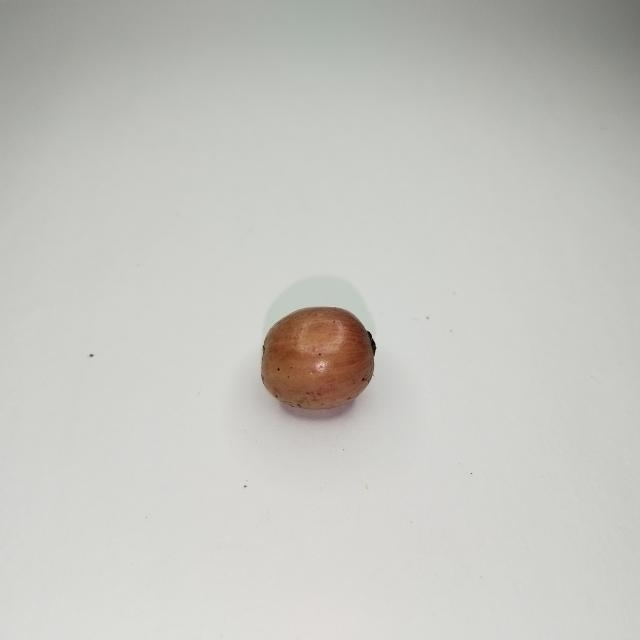Sano: (261, 307, 375, 411)
